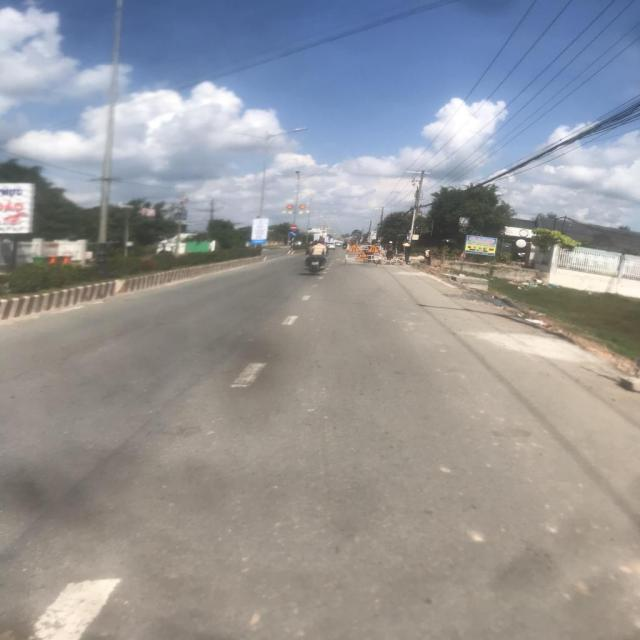cam_xe_di_nguoc_chieu: (290, 225, 298, 231)
di_cham: (355, 251, 370, 260)
huong_phai_di_vuot_chuong_ngai_vat_phai: (289, 231, 297, 237)
khac: (347, 243, 361, 253), (366, 244, 380, 253)
